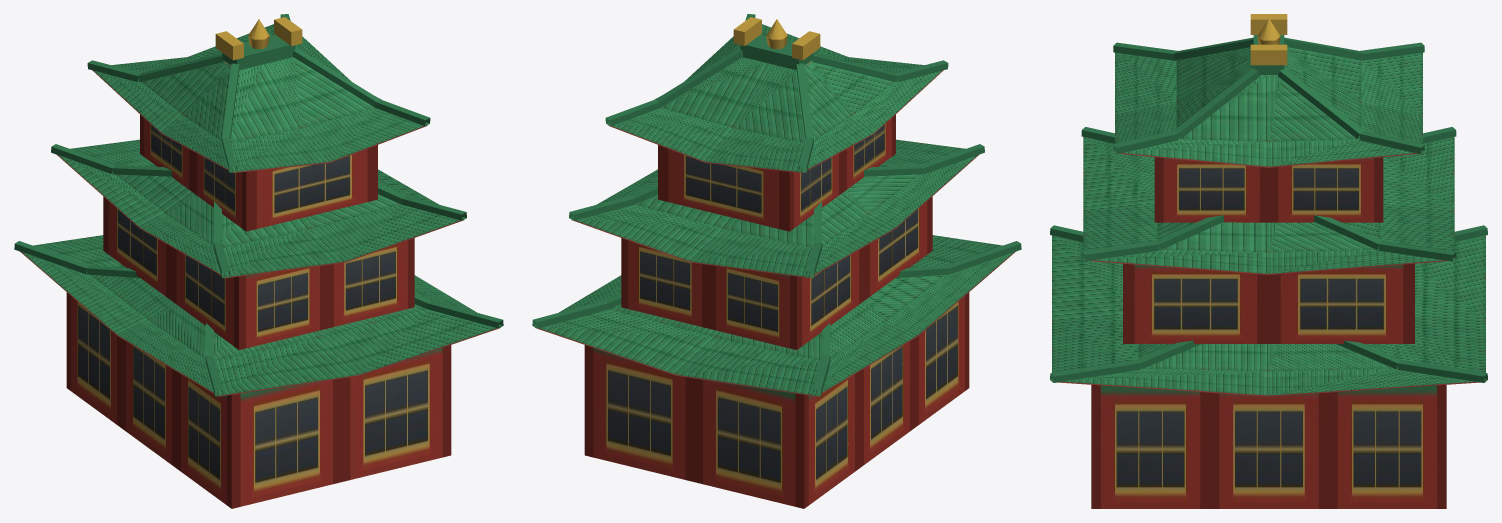
The model's file is bank_of_canton_pagoda.glb.
3 renders of one model, left to right at view 1: azimuth 30°, elevation 25°; view 2: azimuth 150°, elevation 25°; view 3: azimuth 270°, elevation 25°, orthographic. The views are drawn at different scales.
Parts seen in each view (by area): view 1: bank_of_canton_pagoda; view 2: bank_of_canton_pagoda; view 3: bank_of_canton_pagoda.
Part boxes in pixels (x1,y1,x2,y2): bank_of_canton_pagoda: (14, 14, 503, 508); bank_of_canton_pagoda: (532, 14, 1021, 508); bank_of_canton_pagoda: (1050, 14, 1487, 508).
Bounding box in the file's own units: 9 × 12 × 11.
Materials: 2 (2 with a texture image).
